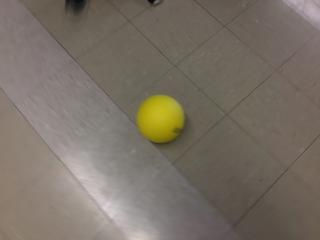power_cell: (135, 93, 186, 144)
